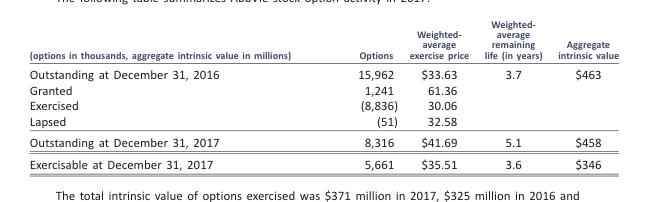table: (28, 28, 618, 171)
table column: (28, 28, 323, 171), (323, 28, 402, 171), (475, 28, 549, 171), (402, 28, 475, 171), (549, 28, 618, 171)
table column header: (28, 28, 618, 64)
table row: (28, 28, 618, 64), (28, 131, 618, 153), (28, 64, 618, 82), (28, 113, 618, 131), (28, 153, 618, 171), (28, 82, 618, 98), (28, 98, 618, 113)
